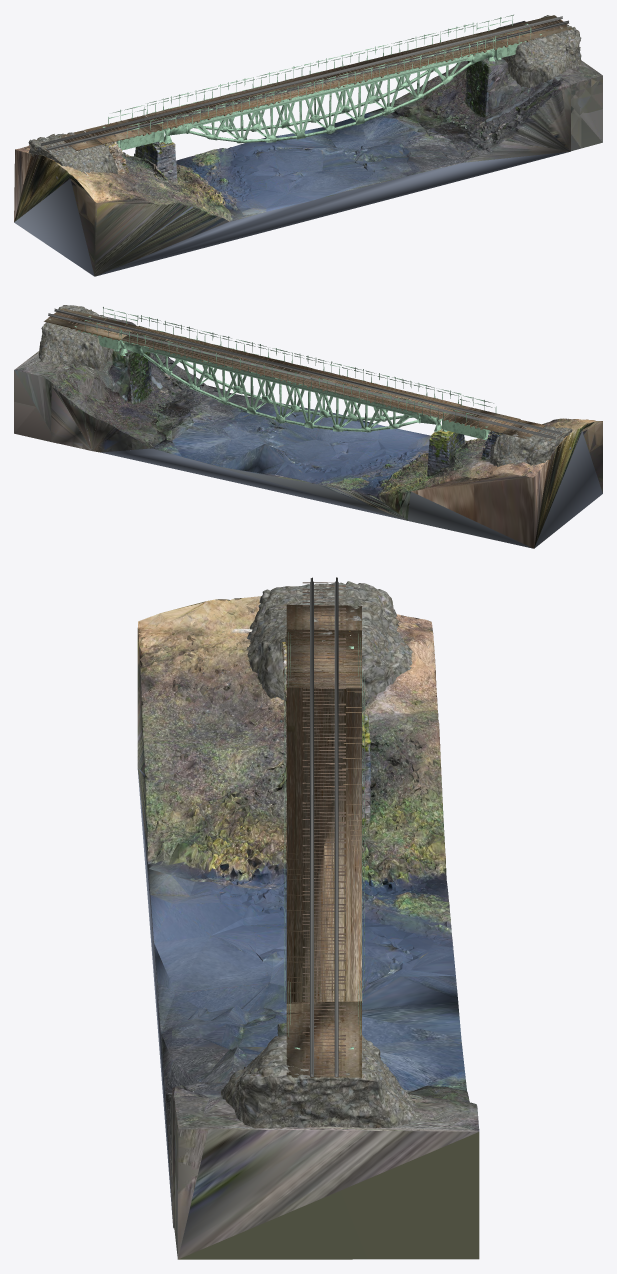
File: tiltas_merkys.glb
3 renders of one model, top to bottom at view 1: azimuth 30°, elevation 25°; view 2: azimuth 150°, elevation 25°; view 3: azimuth 270°, elevation 25°, orthographic. The views are drawn at different scales.
Visible parts, largest first — view 1: tiltas_merkys; view 2: tiltas_merkys; view 3: tiltas_merkys.
Part boxes in pixels (x1=…): tiltas_merkys: x1=14, y1=14, x2=602, y2=276; tiltas_merkys: x1=14, y1=305, x2=602, y2=548; tiltas_merkys: x1=137, y1=577, x2=479, y2=1259.
Bounding box in the file's own units: 71.15 × 13.57 × 20.59.
Materials: 29 (28 with a texture image).
